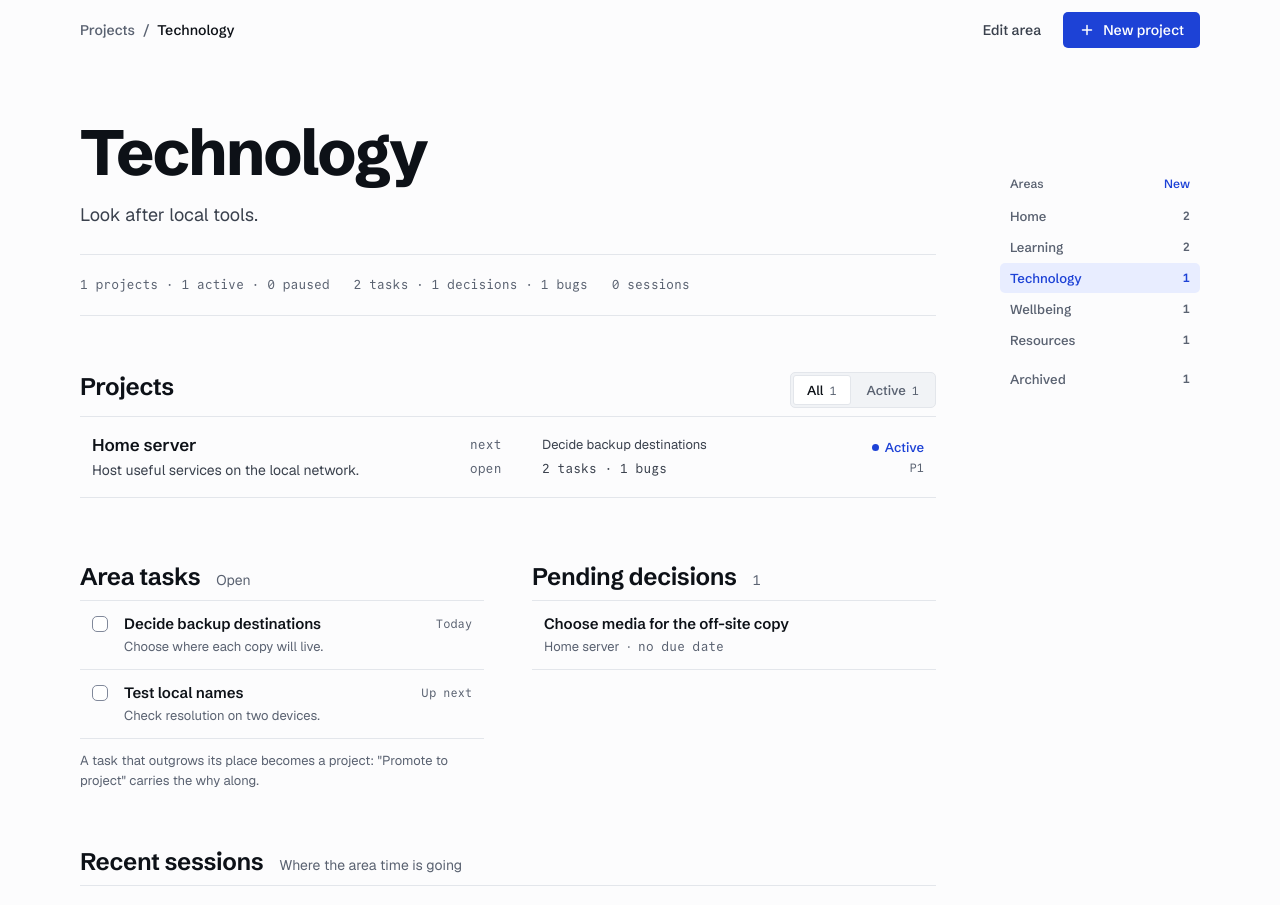
Test case: area view writing to its source › shows the area the source answered with, not the one it was sent
Click the button with class "ghost" at coordinates (1012, 30), box [973, 14, 1051, 46]
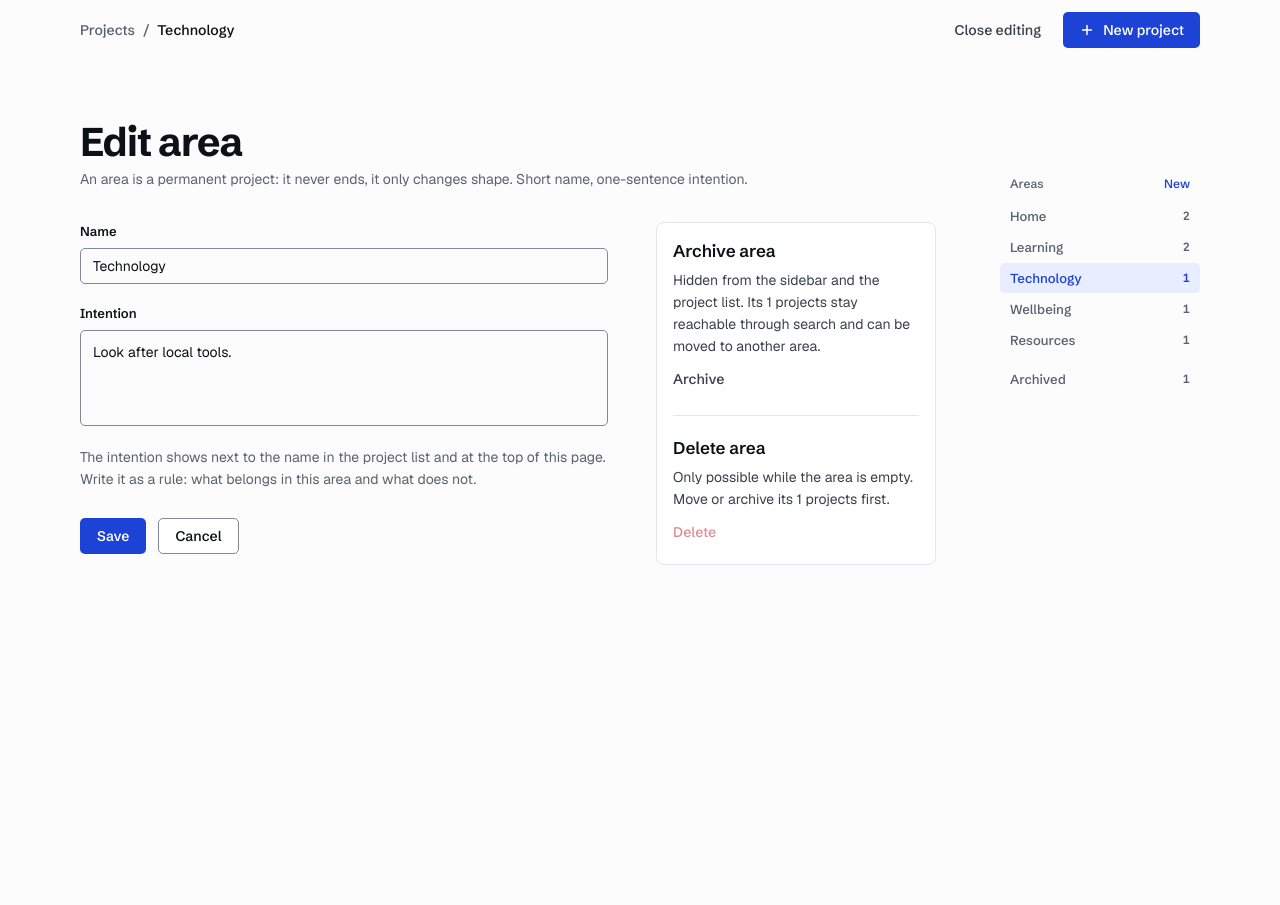
Replace the text in the field labelled "Name" with "Tools" at coordinates (344, 266), box [80, 248, 608, 284]
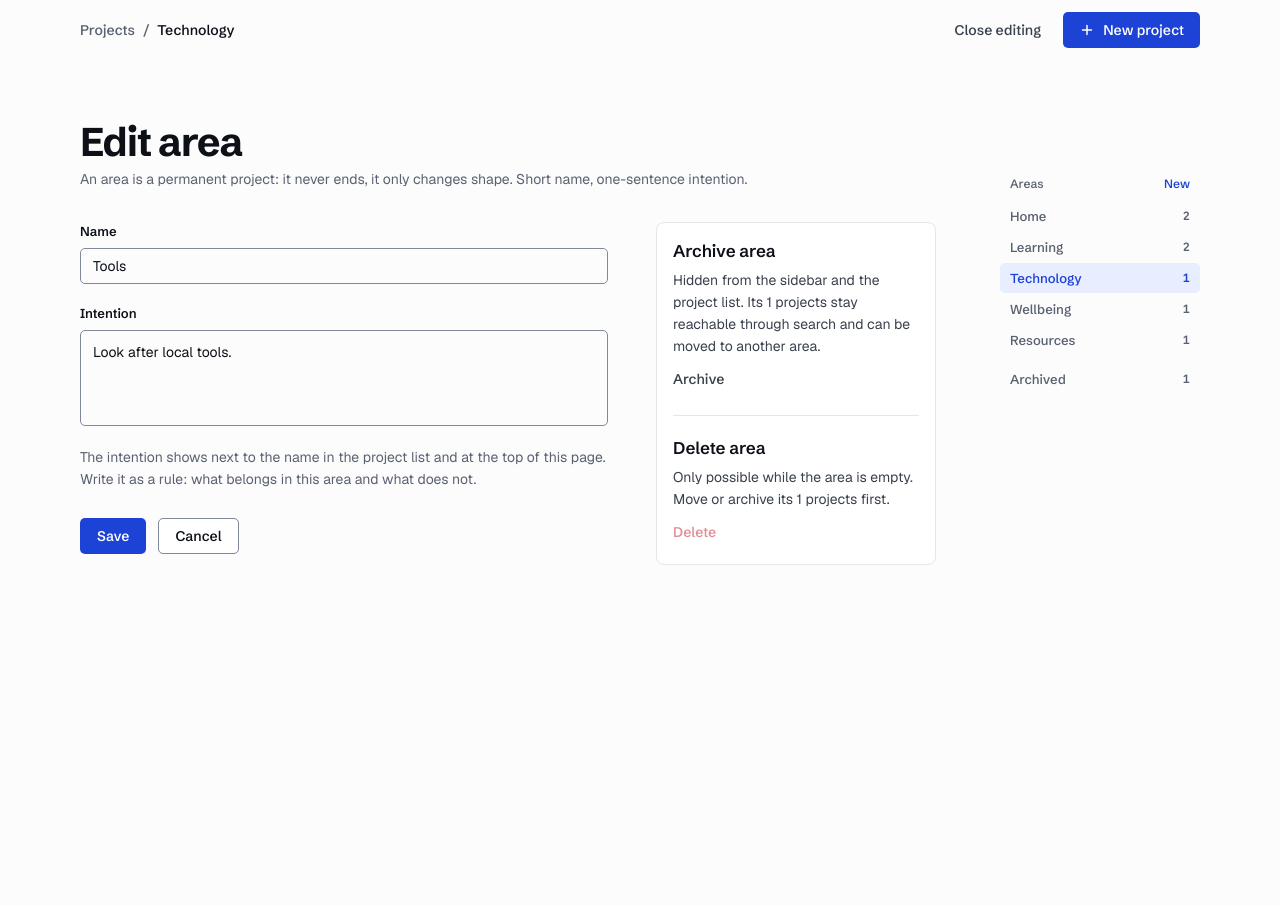
Replace the text in the text box labelled "Intention" with "Look after what I use every day." at coordinates (344, 378), box [80, 330, 608, 426]
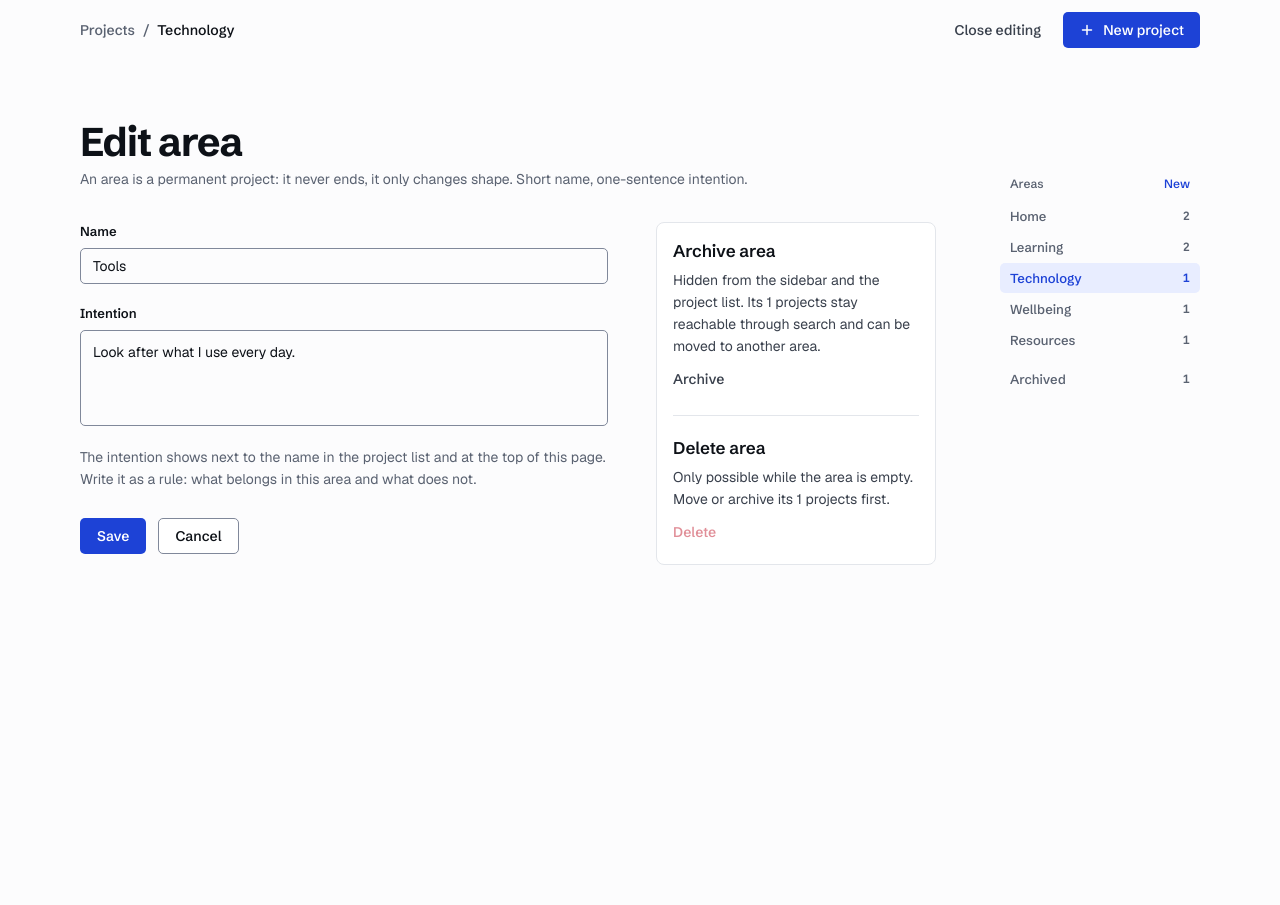
Click the button with class "nt-btn" showing "Save" at coordinates (113, 536), box [80, 518, 146, 554]
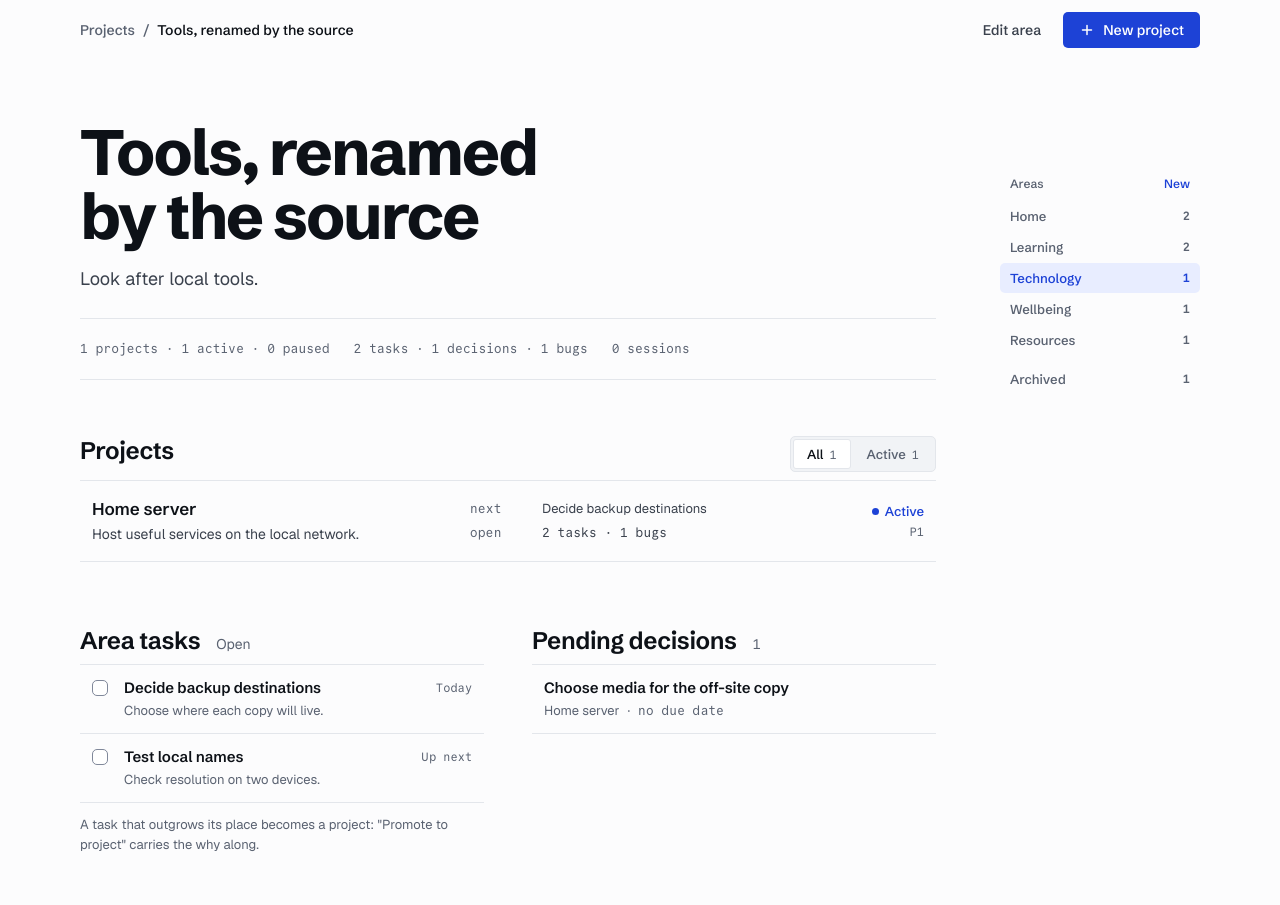
Result: the heading "Tools, renamed by the source" reads "Tools, renamed by the source" at [80, 112, 537, 256]
